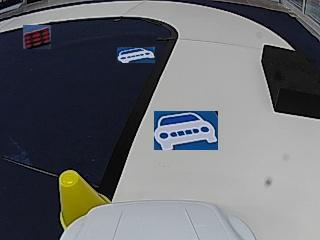block: (262, 44, 318, 117)
cone: (60, 171, 106, 204)
